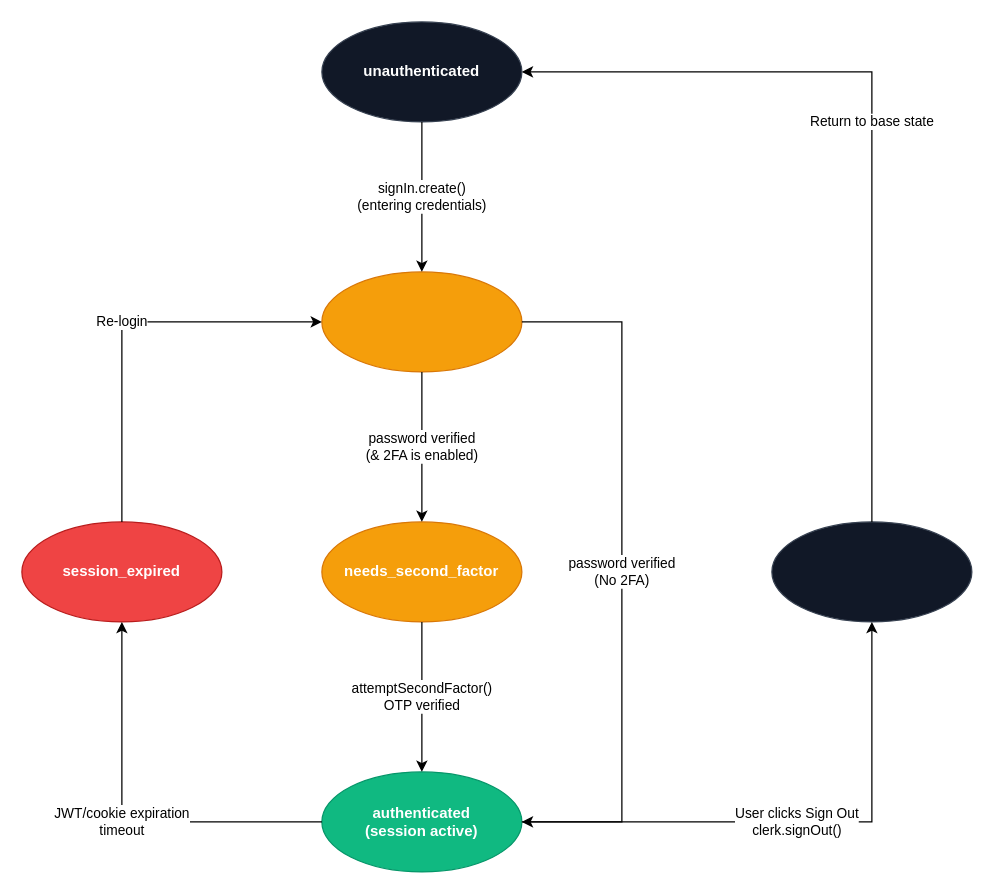
The diagram is 994 pixels wide and 894 high, and some of its shapes have lost their labels. The shapes that lost their labels are listed below. From the top down, each one's box as (x1, y1, x2, y2) in pixels, then its label:
(321, 271, 522, 372): first_factor_pending
(771, 521, 972, 622): signed_out
